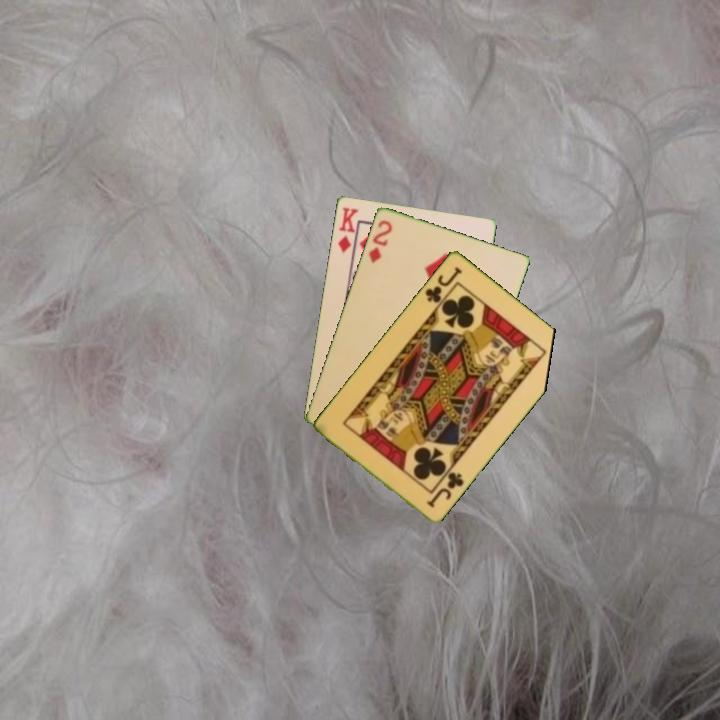2d: (365, 216, 395, 266)
Jc: (421, 263, 465, 305), (423, 468, 467, 510)
Kd: (334, 203, 361, 256)
